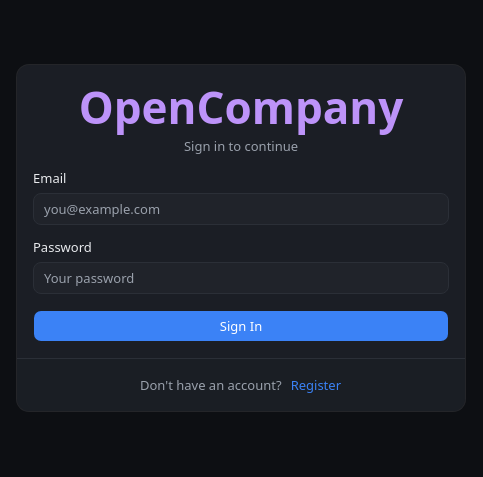
Test: LoginPage › switches to register mode and requires a display name
Click the button "Register" at (316, 385), box 290,375 -> 342,396
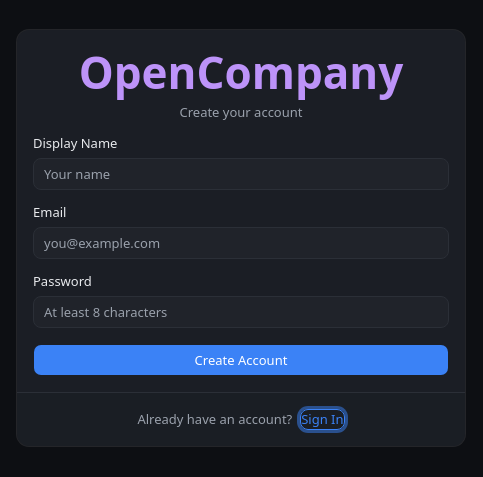
Now the button "Create Account" is shown, box 33,344 -> 449,376
Type "a@b.com" into the field labelled "Email" at (241, 243), box 33,227 -> 449,259
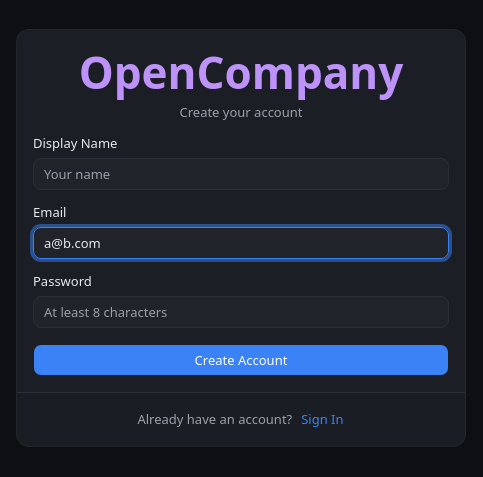
Type "hunter2hunter2" into the password field labelled "Password" at (241, 312), box 33,296 -> 449,328
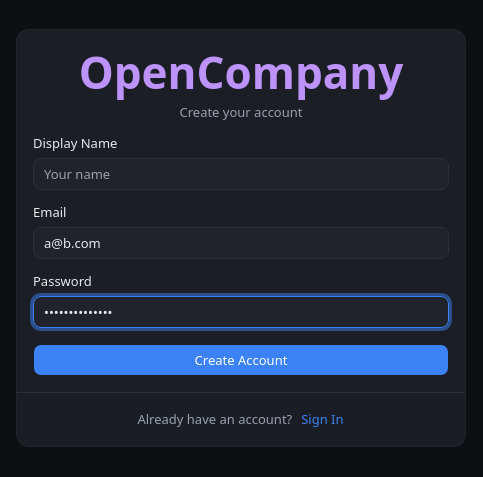
Click the button "Create Account" at (241, 360), box 33,344 -> 449,376
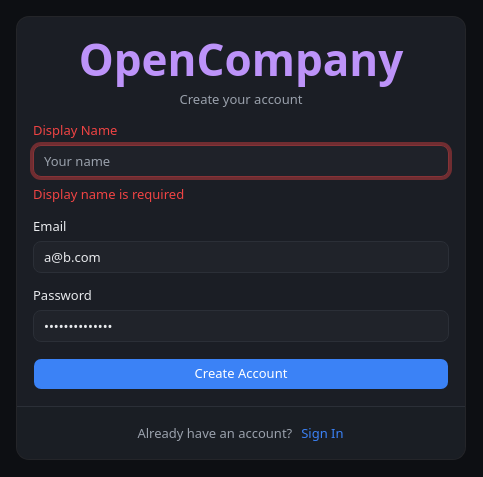
Now the text "Display name is required" is shown, box 33,185 -> 184,203
